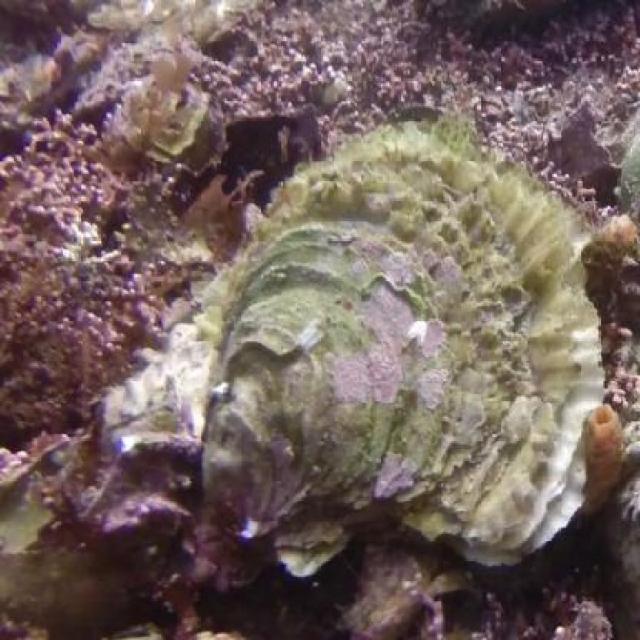Oyster- Indeterminate: (213, 130, 596, 557)
Oyster-Closed: (135, 82, 229, 183)
Oyster-Open: (535, 90, 640, 196)
